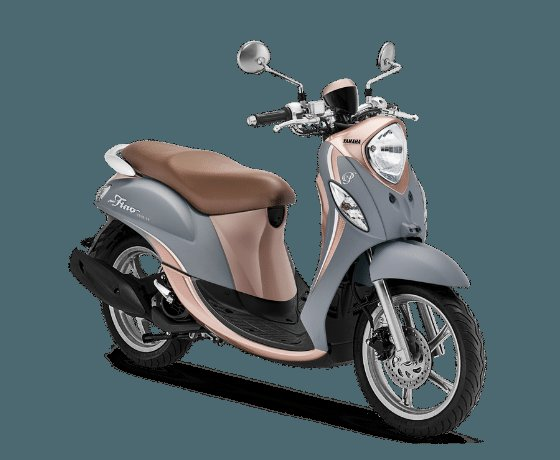motor: (81, 102, 506, 433)
